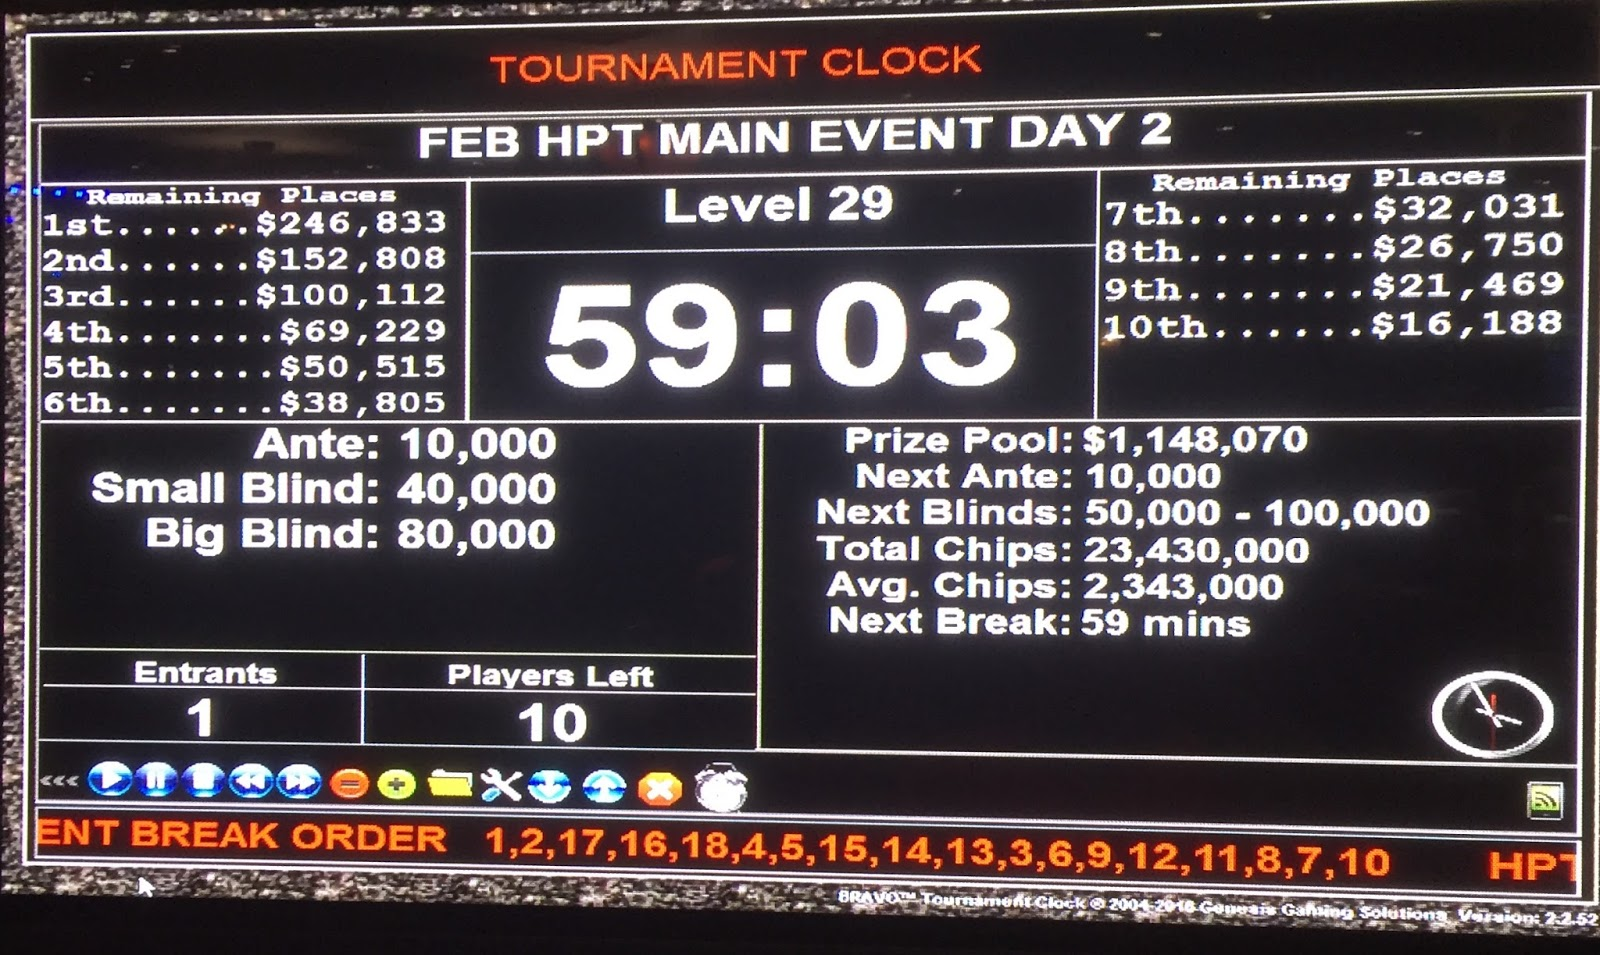PlayersLeft: (358, 647, 765, 755)
Remaining: (1095, 157, 1588, 423), (29, 178, 470, 426)
